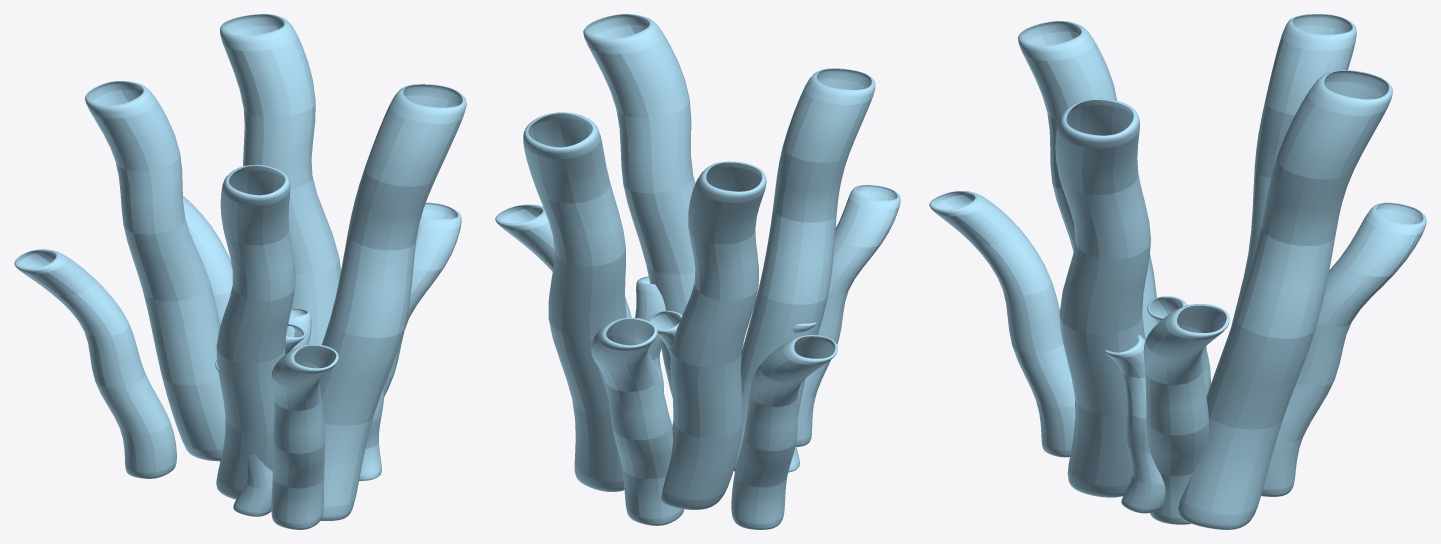
The model's file is plant 3.fbx.
3 renders of one model, left to right at view 1: azimuth 30°, elevation 25°; view 2: azimuth 150°, elevation 25°; view 3: azimuth 270°, elevation 25°, orthographic. The views are drawn at different scales.
Parts seen in each view (by area): view 1: plant3; view 2: plant3; view 3: plant3.
Boxes of the visible parts, <box> form: plant3: <box>14,14,466,529</box>; plant3: <box>495,14,900,529</box>; plant3: <box>929,14,1426,529</box>.
Size of the model in its own units: 11.56 by 11.47 by 11.92.
